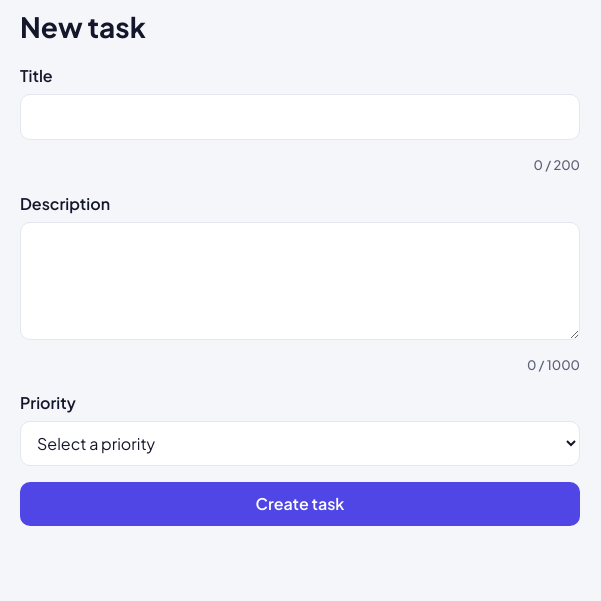
Test: CreateTaskPage › validates before sending the request
The image size is (601, 601).
Click the button "Create task" at (300, 504), box [20,482,580,526]
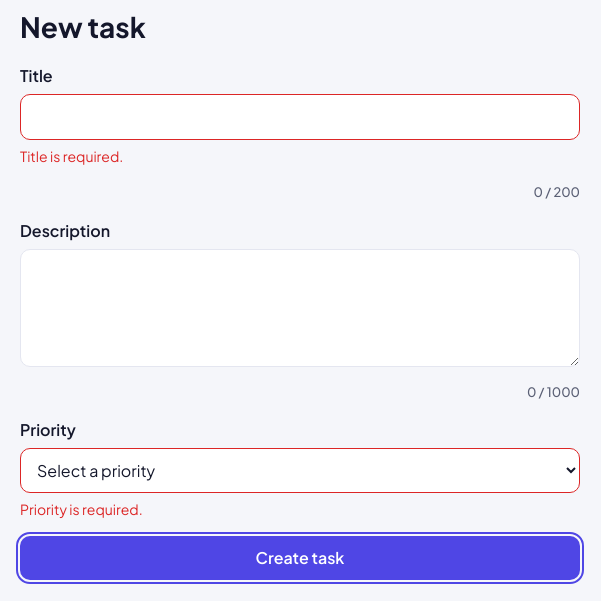
Check: the text "Title is required." is shown, box [20,147,123,165]
Check: the text "Priority is required." is shown, box [20,500,143,518]
